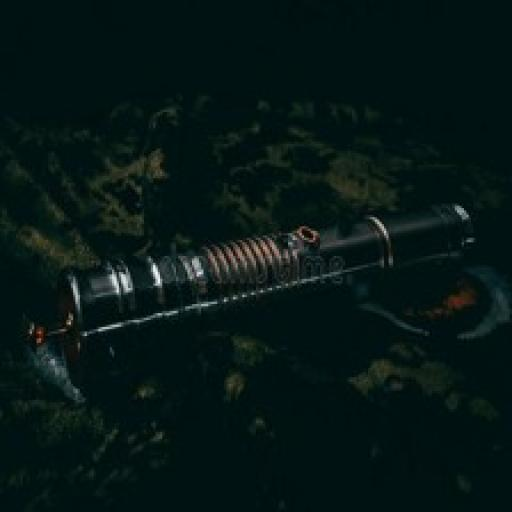lightsaber: (26, 197, 488, 362)
